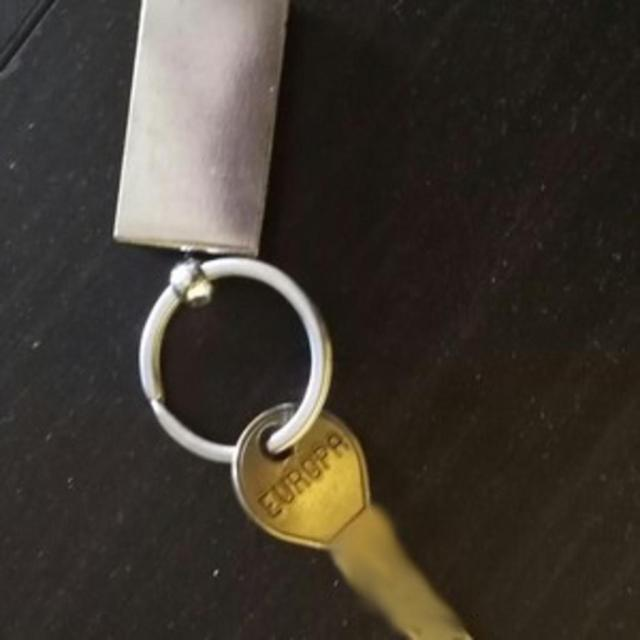Frontdoor keys: (230, 400, 505, 640)
